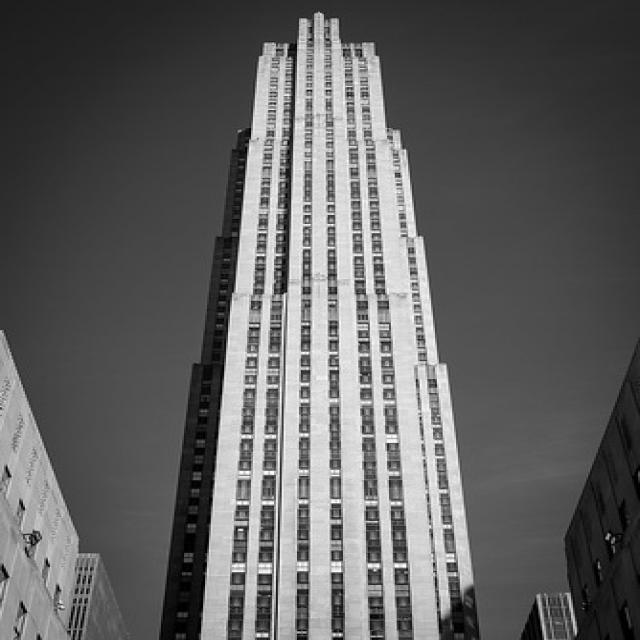Normal_building: (151, 7, 487, 638)
